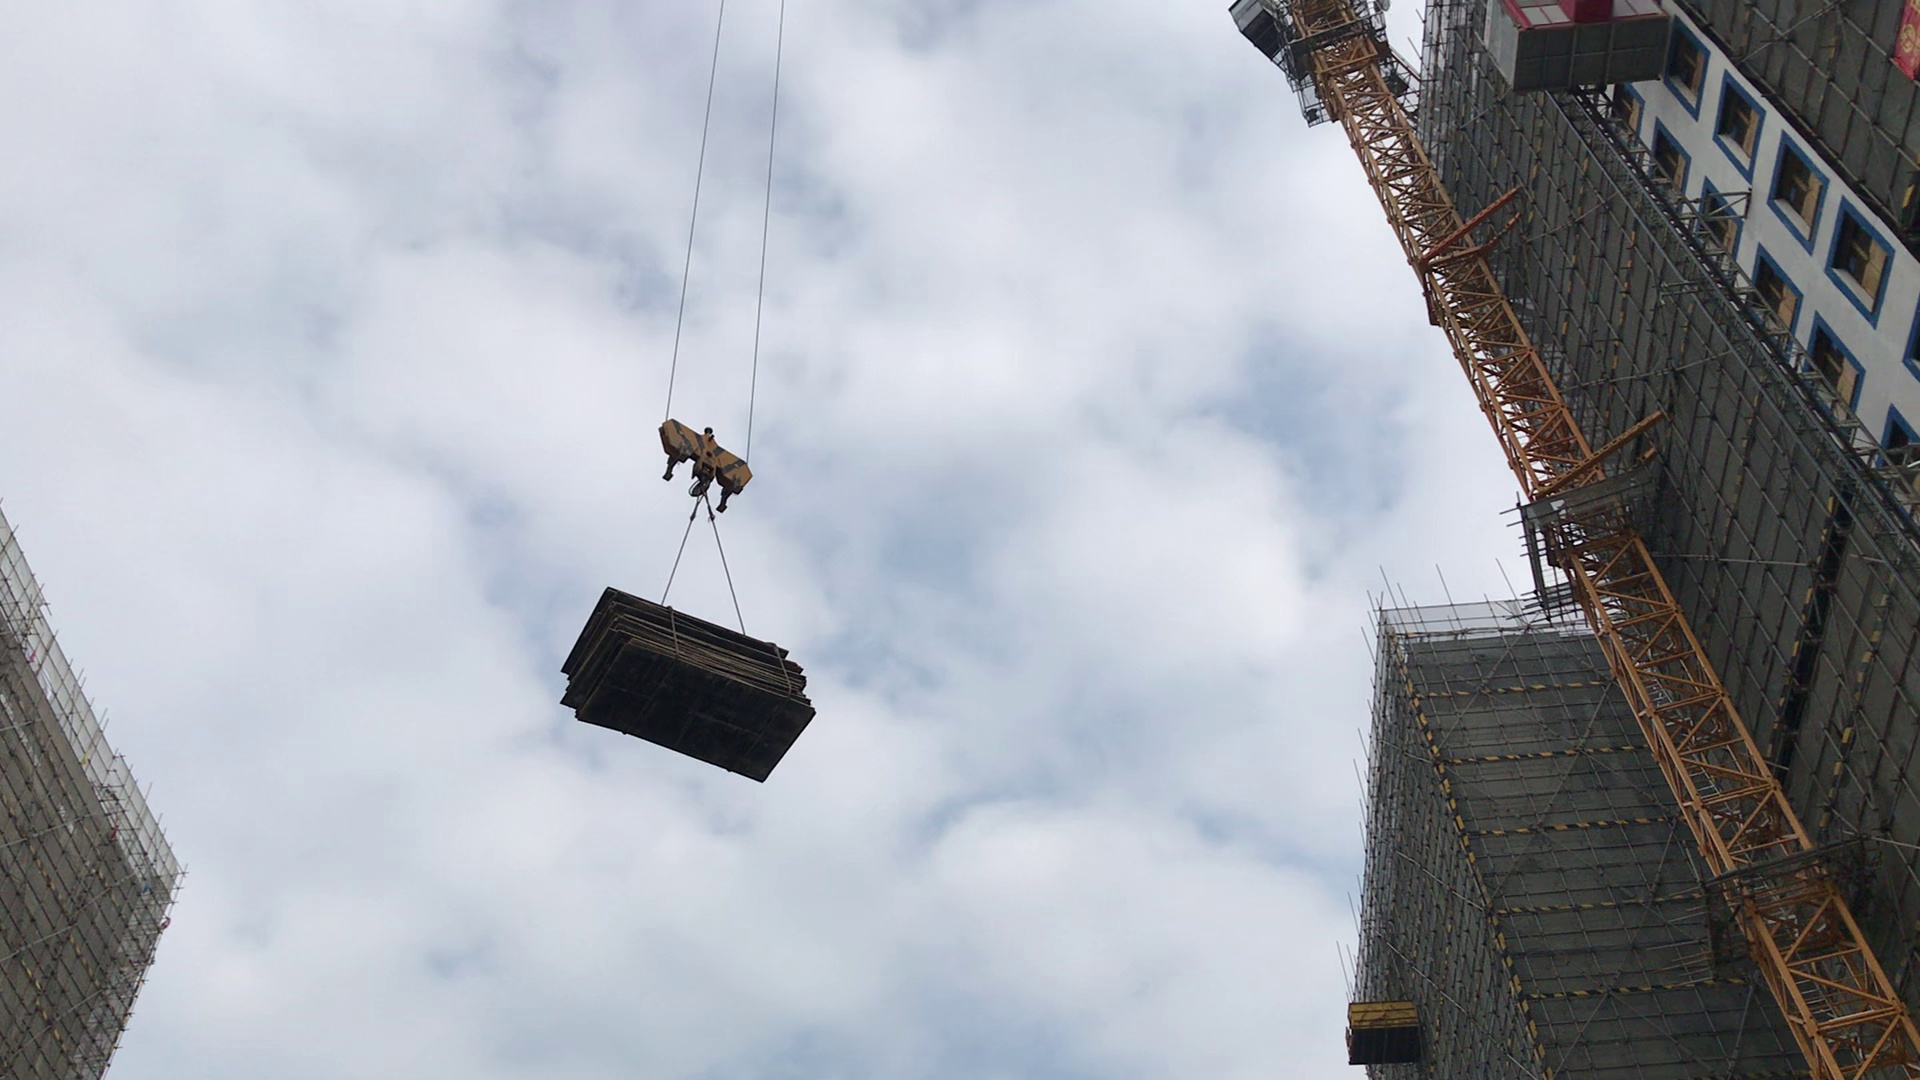board: (549, 579, 823, 794)
hook: (653, 415, 757, 498)
